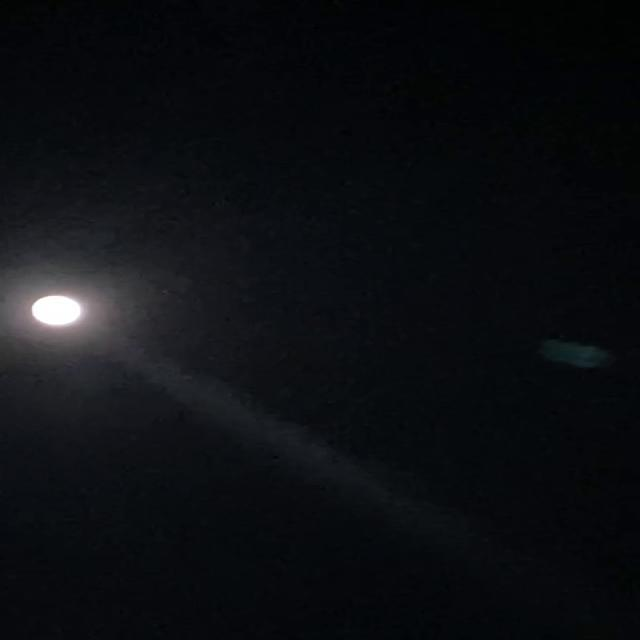moon: (22, 284, 113, 330)
